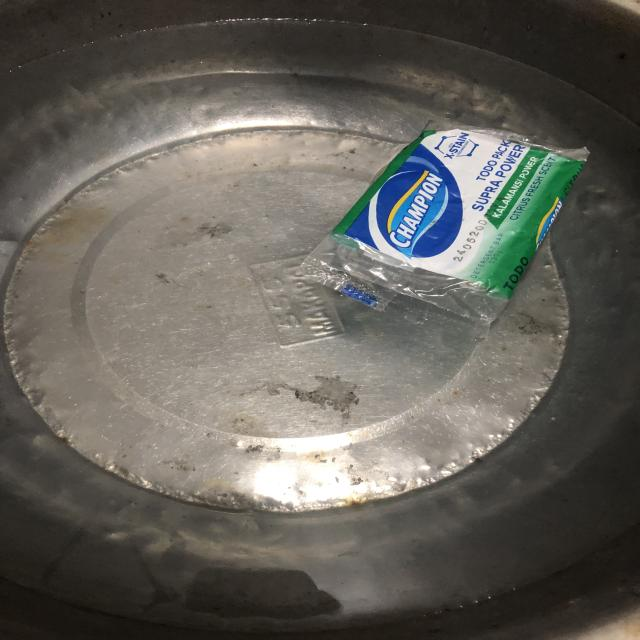Plastic Wrapper: (292, 118, 574, 323)
